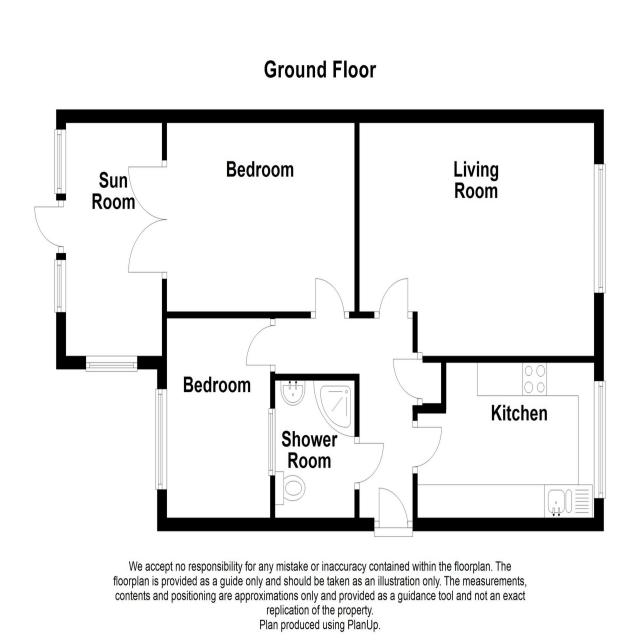DOOR: (373, 487, 414, 538), (245, 317, 276, 374), (34, 199, 66, 254), (373, 277, 414, 318), (310, 277, 350, 319), (412, 419, 442, 474), (354, 435, 384, 490)
DOUBLE DOOR: (123, 158, 168, 279)
ROOM: (354, 110, 607, 364), (126, 108, 360, 319), (412, 356, 606, 532), (155, 311, 276, 532)
WINDOW: (593, 379, 608, 500), (593, 162, 606, 295), (154, 387, 168, 492), (84, 354, 139, 374), (54, 128, 67, 195), (54, 259, 67, 313), (267, 407, 277, 477)
